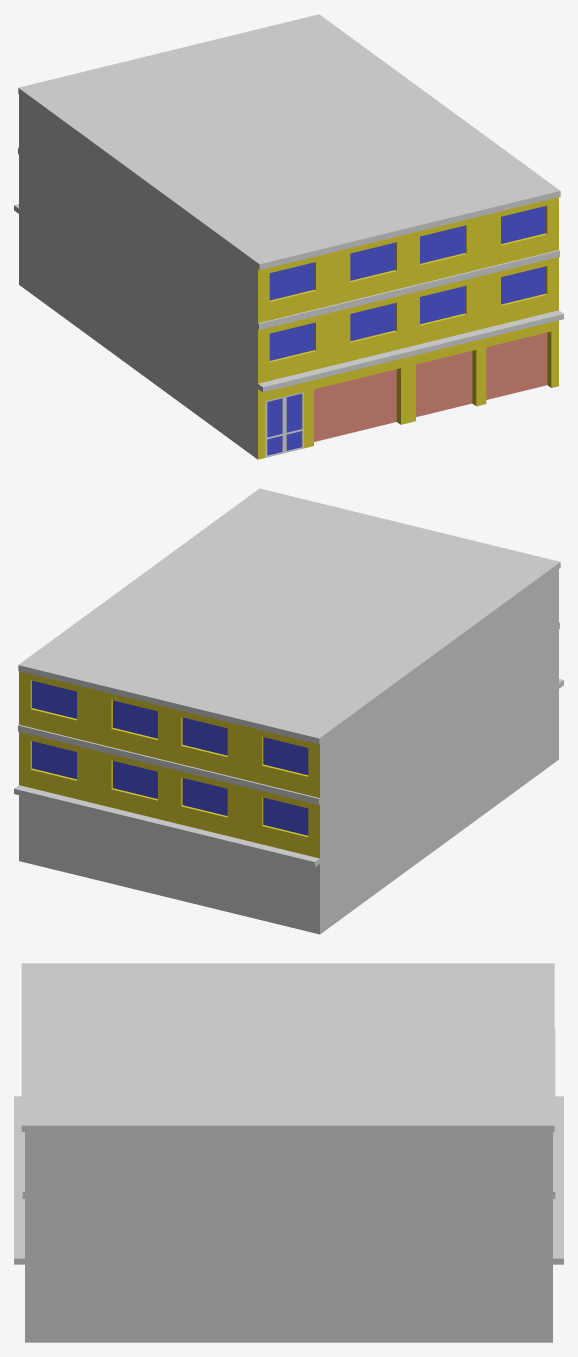
File: building18.fbx
3 views of the same model, one above another, from view 1: azimuth 30°, elevation 25°; view 2: azimuth 150°, elevation 25°; view 3: azimuth 270°, elevation 25° (orthographic). The views are drawn at different scales.
Parts seen in each view (by area): view 1: building7; view 2: building7; view 3: building7.
Boxes of the visible parts, x1,y1,x2,y2 form: building7: [14, 14, 563, 459]; building7: [14, 488, 563, 934]; building7: [14, 963, 563, 1342].
Size of the model in its own units: 1600 by 998 by 2292.
